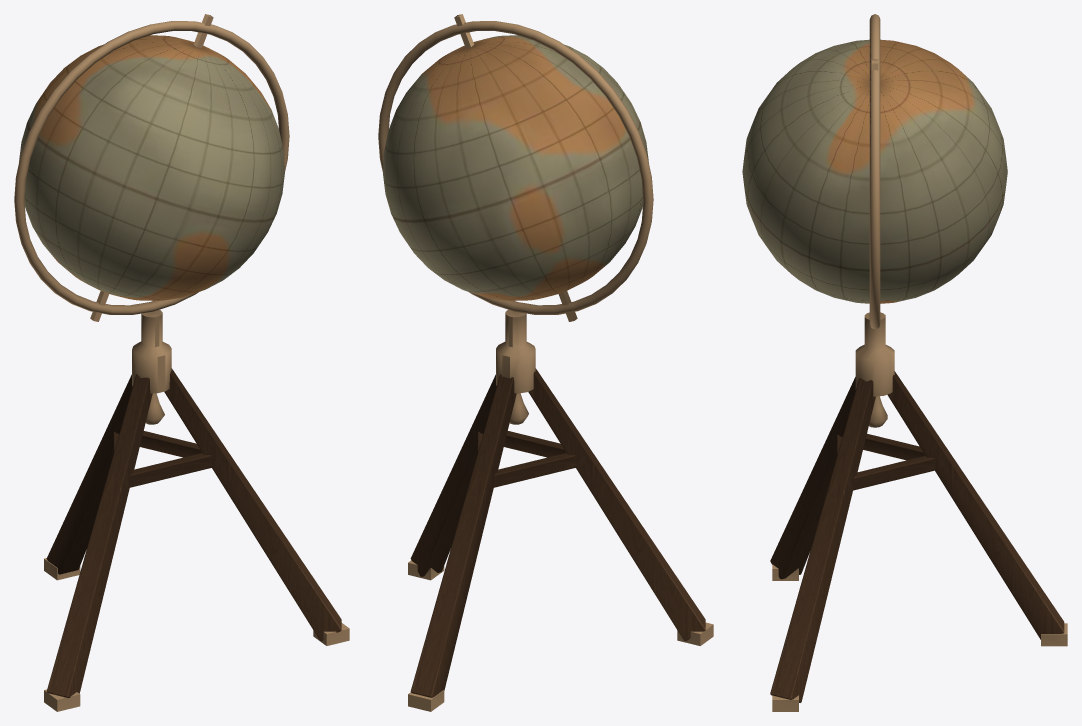
Rendered from library_globe.gltf.
The picture shows the model from 3 angles, left to right: view 1: azimuth 30°, elevation 25°; view 2: azimuth 150°, elevation 25°; view 3: azimuth 270°, elevation 25°; orthographic projection.
Parts seen in each view (by area): view 1: LibraryGlobe_Sphere, LibraryGlobe_Stand, LibraryGlobe_Meridian, LibraryGlobe_Bronze; view 2: LibraryGlobe_Sphere, LibraryGlobe_Stand, LibraryGlobe_Meridian, LibraryGlobe_Bronze; view 3: LibraryGlobe_Sphere, LibraryGlobe_Stand, LibraryGlobe_Bronze, LibraryGlobe_Meridian.
Boxes of the visible parts, bbox=[...] form: LibraryGlobe_Sphere: bbox=[19, 35, 284, 300]; LibraryGlobe_Stand: bbox=[46, 368, 341, 698]; LibraryGlobe_Meridian: bbox=[14, 21, 289, 314]; LibraryGlobe_Bronze: bbox=[44, 14, 349, 711]; LibraryGlobe_Sphere: bbox=[383, 35, 648, 300]; LibraryGlobe_Stand: bbox=[410, 368, 705, 697]; LibraryGlobe_Meridian: bbox=[378, 21, 653, 314]; LibraryGlobe_Bronze: bbox=[408, 14, 713, 711]; LibraryGlobe_Sphere: bbox=[742, 39, 1007, 303]; LibraryGlobe_Stand: bbox=[770, 371, 1064, 702]; LibraryGlobe_Bronze: bbox=[772, 59, 1067, 711]; LibraryGlobe_Meridian: bbox=[869, 14, 880, 329].
Bounding box in the file's own units: 0.5112 × 1.02 × 0.49.
Materials: 3 (2 with a texture image).
